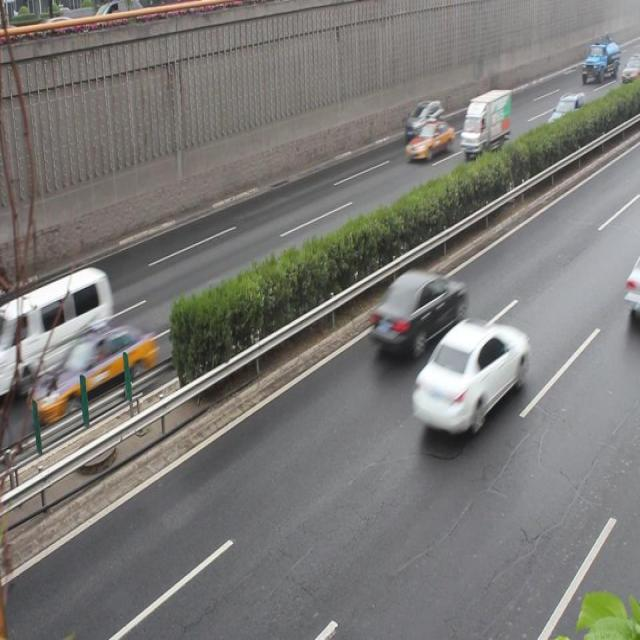bus: (459, 90, 510, 152)
car: (411, 320, 526, 436), (39, 324, 152, 421), (369, 269, 465, 351), (404, 121, 452, 163), (544, 91, 585, 134), (403, 98, 443, 137)
truck: (0, 266, 110, 373)
